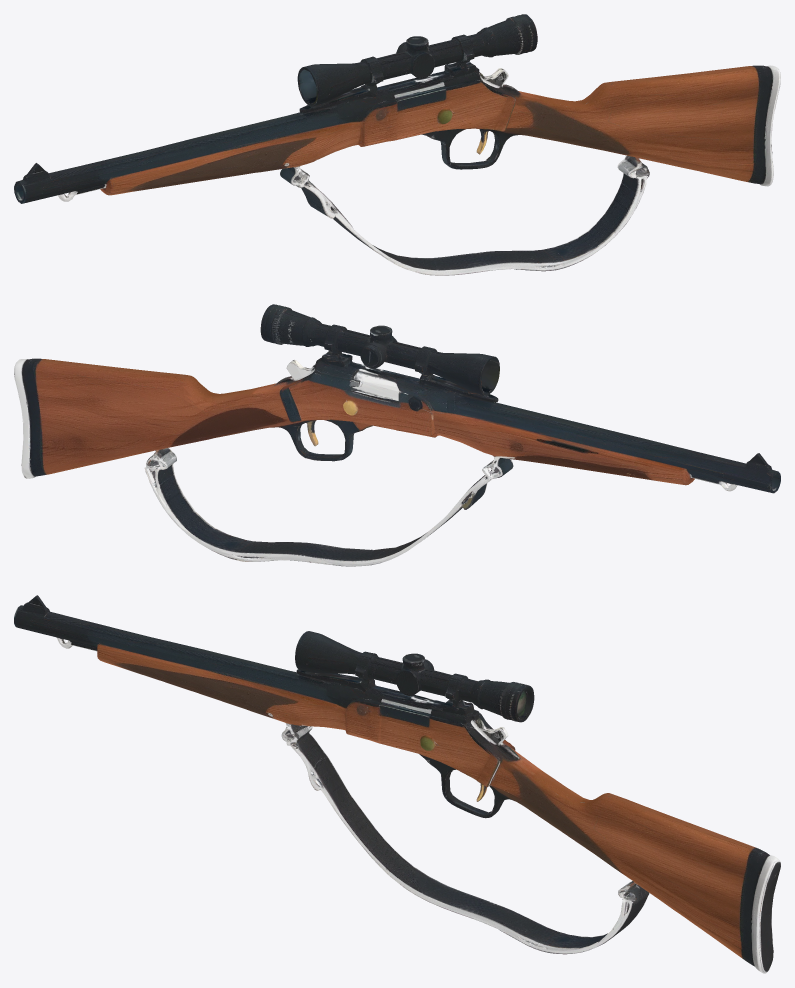
File: lever_rifle.glb
The picture shows the model from 3 angles, top to bottom: view 1: azimuth 30°, elevation 25°; view 2: azimuth 150°, elevation 25°; view 3: azimuth 330°, elevation 25°; orthographic projection.
Size of the model in its own units: 1.9 by 0.6159 by 0.0947.
1 material, 1 textured.
